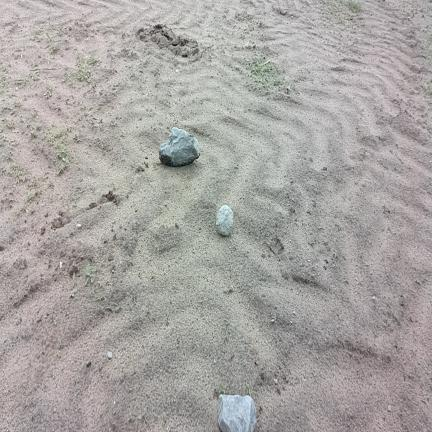Rock: (160, 128, 199, 166), (219, 395, 256, 431), (216, 205, 233, 235)
